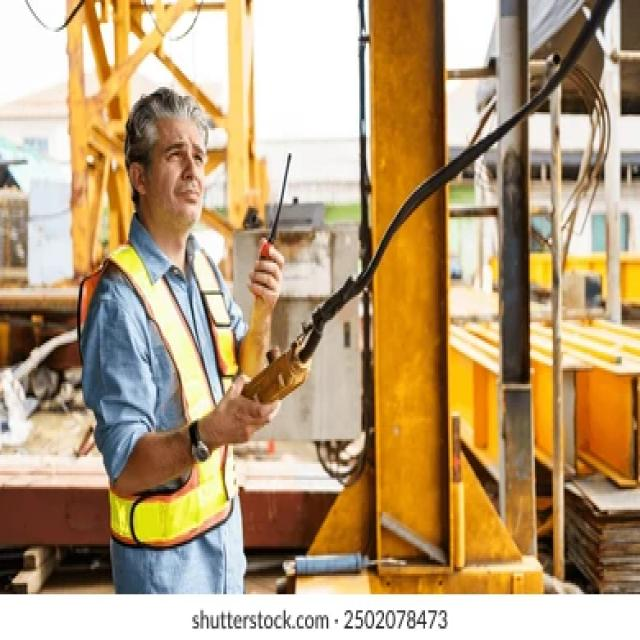nohelmet: (125, 90, 207, 232)
